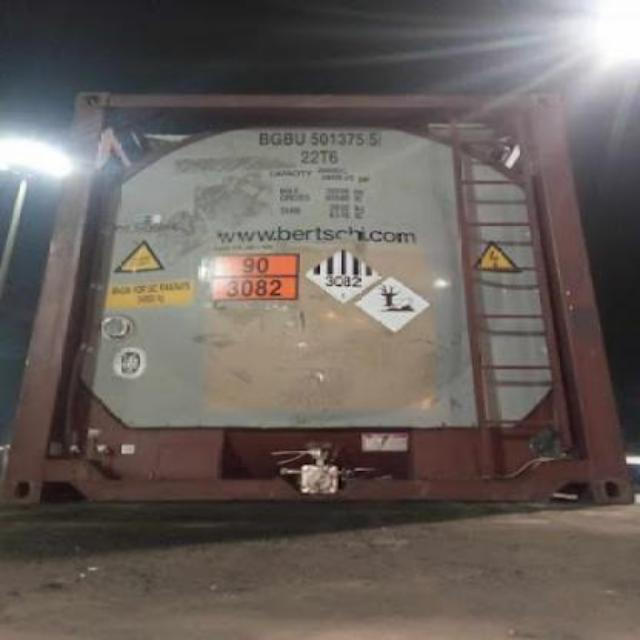0: (318, 130, 328, 146)
1: (328, 128, 336, 148)
3: (336, 129, 346, 147)
5: (356, 127, 366, 153), (308, 126, 318, 150), (368, 128, 378, 152)
7: (344, 130, 356, 152)
B: (256, 128, 268, 148), (282, 130, 292, 148)
G: (268, 128, 282, 150)
U: (294, 128, 306, 148)
